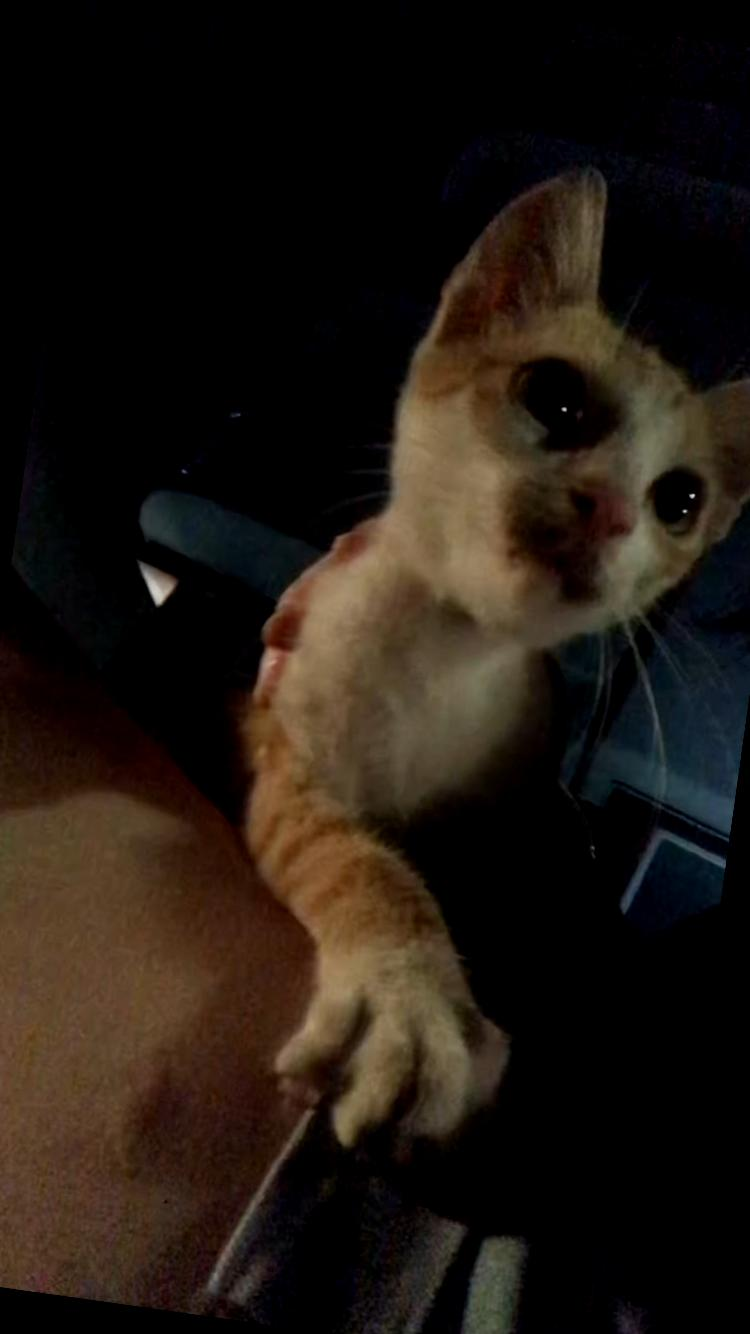macka: (185, 128, 750, 1208)
